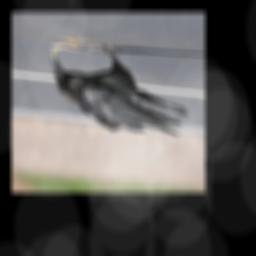Crow: (51, 46, 189, 135)
